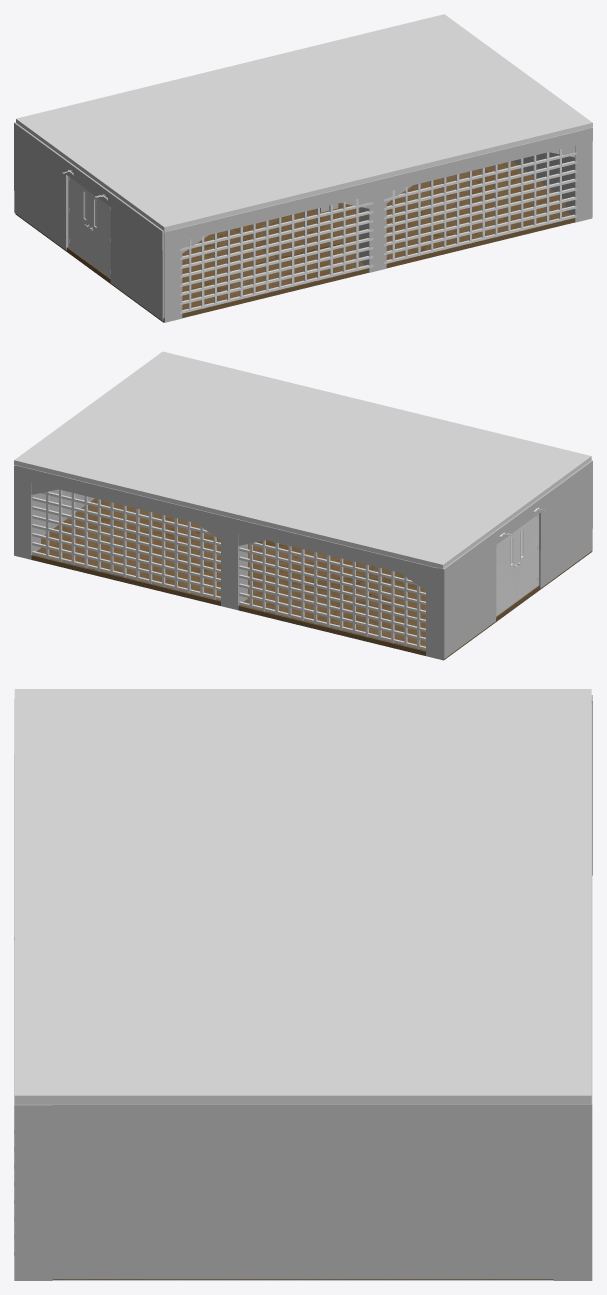
Rendered from Zimmer_mit_Loch.fbx.
3 views of the same model, one above another, from view 1: azimuth 30°, elevation 25°; view 2: azimuth 150°, elevation 25°; view 3: azimuth 270°, elevation 25° (orthographic). The views are drawn at different scales.
Parts seen in each view (by area): view 1: Dach, Boden, Wand_Vorne, Fensster_4, Fenster3, Cube.008, Cube.002, Cube.010, Cube.011, door_A_012.001, door_B_012.001, Wand_hinten; view 2: Dach, Boden, Wand_Vorne, Fenster, Fenster2, Cube.021, Cube.018, Cube.020, door_B_012.001, door_A_012.001, Cube.019, Wand_hinten; view 3: Dach, Wand_hinten, Cube.020, Cube.008, Boden, Cube.021.
Part boxes in pixels (box(x1,y1,x2,y2)): Dach: box(16, 14, 592, 231); Boden: box(15, 161, 575, 322); Wand_Vorne: box(14, 122, 167, 320); Fensster_4: box(384, 149, 576, 264); Fenster3: box(180, 198, 373, 313); Cube.008: box(164, 127, 592, 245); Cube.002: box(341, 179, 412, 272); Cube.010: box(549, 141, 592, 222); Cube.011: box(164, 229, 208, 322); door_A_012.001: box(69, 177, 90, 263); door_B_012.001: box(90, 192, 110, 278); Wand_hinten: box(512, 127, 592, 216); Dach: box(14, 351, 591, 568); Boden: box(31, 498, 592, 660); Wand_Vorne: box(437, 460, 592, 658); Fenster: box(32, 489, 220, 599); Fenster2: box(239, 540, 425, 649); Cube.021: box(14, 465, 437, 578); Cube.018: box(196, 516, 266, 610); Cube.020: box(14, 466, 57, 559); door_B_012.001: box(517, 515, 538, 601); door_A_012.001: box(496, 530, 516, 616); Cube.019: box(400, 566, 443, 660); Wand_hinten: box(41, 489, 94, 535); Dach: box(14, 689, 591, 1104); Wand_hinten: box(14, 1104, 553, 1279); Cube.020: box(553, 1106, 592, 1280); Cube.008: box(14, 699, 52, 1131); Boden: box(52, 1279, 553, 1280); Cube.021: box(553, 703, 592, 1106).
Bounding box in the file's own units: 17592 × 3701 × 10318.
